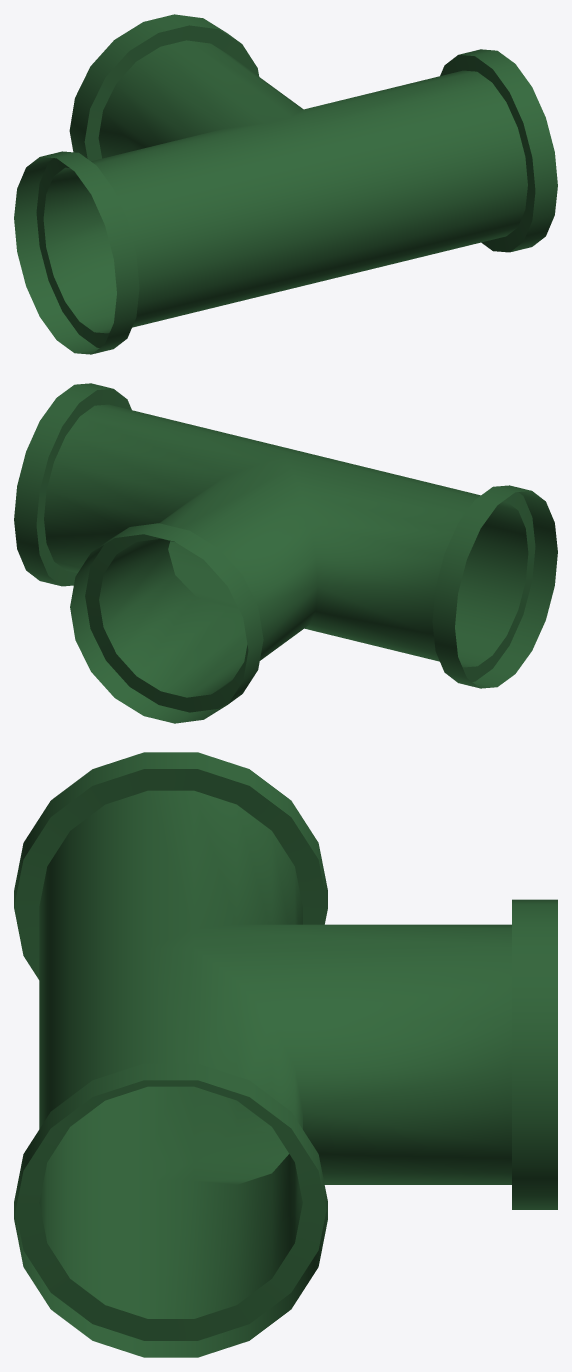
3 views of the same model, one above another, from view 1: azimuth 30°, elevation 25°; view 2: azimuth 150°, elevation 25°; view 3: azimuth 270°, elevation 25° (orthographic). The views are drawn at different scales.
Visible parts, largest first — view 1: T; view 2: T; view 3: T.
Boxes of the visible parts, box(x1,y1,x2,y2) form: T: box(14, 14, 557, 354); T: box(14, 383, 557, 723); T: box(14, 752, 557, 1357).
Bounding box in the file's own units: 1 × 0.3942 × 0.7012.
